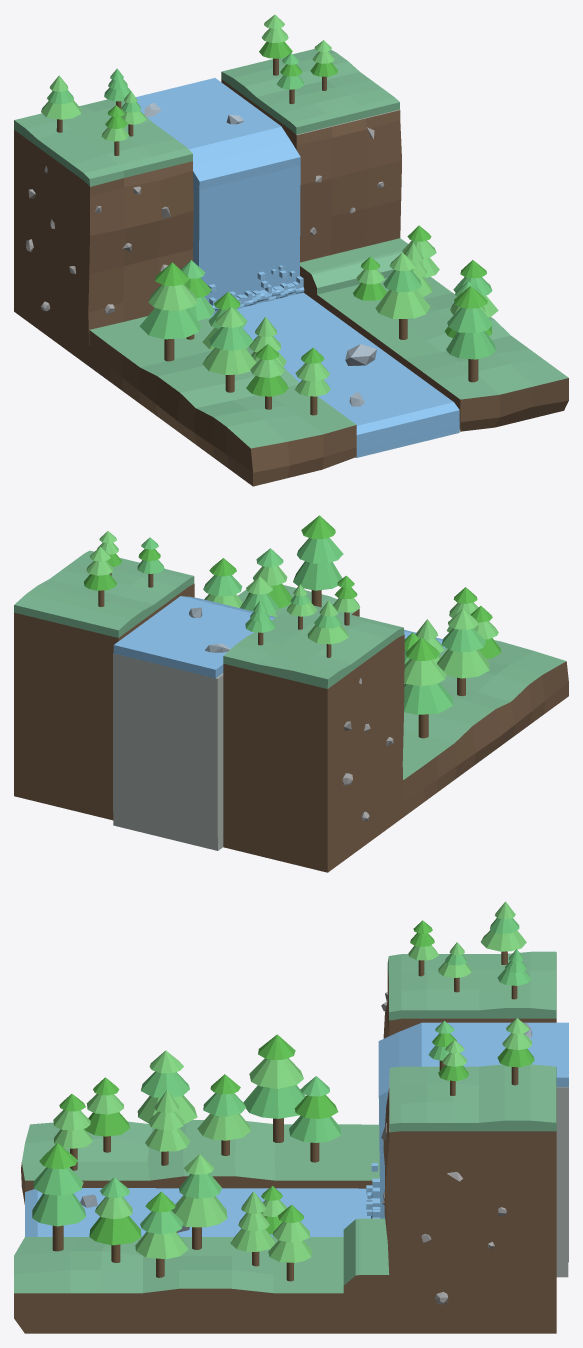
File: WaterfallScene.fbx
3 renders of one model, top to bottom at view 1: azimuth 30°, elevation 25°; view 2: azimuth 150°, elevation 25°; view 3: azimuth 270°, elevation 25°, orthographic. The views are drawn at different scales.
Visible parts, largest first — view 1: Cube, Cube.002, Cone, Cone.030, Cone.009, Cone.021, Cube.027, Cone.001, Cone.022, Cone.010, Cone.015, Cone.031 (+1 smaller); view 2: Cube, Cube.002, Cone, Cone.009, Cone.021, Cone.001, Cone.022, Cone.010, Cone.028, Cone.054, Cone.023, Cone.002 (+2 smaller); view 3: Cube, Cube.002, Cone, Cone.021, Cone.030, Cone.001, Cone.024, Cone.027, Cone.003, Cone.022, Cone.006, Cone.010 (+19 smaller).
Part boxes in pixels (x1,y1,x2,y2): Cube: (14, 49, 568, 486); Cube.002: (136, 78, 459, 457); Cone: (139, 307, 201, 339); Cone.030: (375, 289, 430, 318); Cone.009: (202, 347, 256, 374); Cone.021: (446, 331, 495, 359); Cube.027: (209, 276, 304, 314); Cone.001: (148, 284, 197, 310); Cone.022: (447, 307, 493, 333); Cone.010: (209, 326, 253, 350); Cone.015: (246, 375, 288, 396); Cone.031: (383, 270, 421, 291); Cube: (14, 550, 568, 872); Cube.002: (113, 596, 445, 678); Cone: (404, 683, 452, 714); Cone.009: (437, 649, 489, 678); Cone.021: (293, 561, 342, 590); Cone.001: (404, 659, 446, 686); Cone.022: (297, 537, 343, 563); Cone.010: (441, 628, 485, 652); Cone.028: (203, 575, 242, 596); Cone.054: (307, 624, 348, 644); Cone.023: (301, 515, 335, 539); Cone.002: (405, 637, 439, 660); Cube: (14, 951, 568, 1333); Cube.002: (25, 1022, 568, 1236); Cone: (243, 1085, 305, 1118); Cone.021: (32, 1193, 85, 1226); Cone.030: (171, 1195, 227, 1227); Cone.001: (249, 1058, 303, 1088); Cone.024: (89, 1216, 141, 1245); Cone.027: (135, 1231, 188, 1259); Cone.003: (289, 1115, 340, 1142); Cone.022: (33, 1167, 83, 1195); Cone.006: (197, 1113, 250, 1140); Cone.010: (141, 1071, 189, 1097).
Size of the model in its own units: 856 by 636 by 1147.
